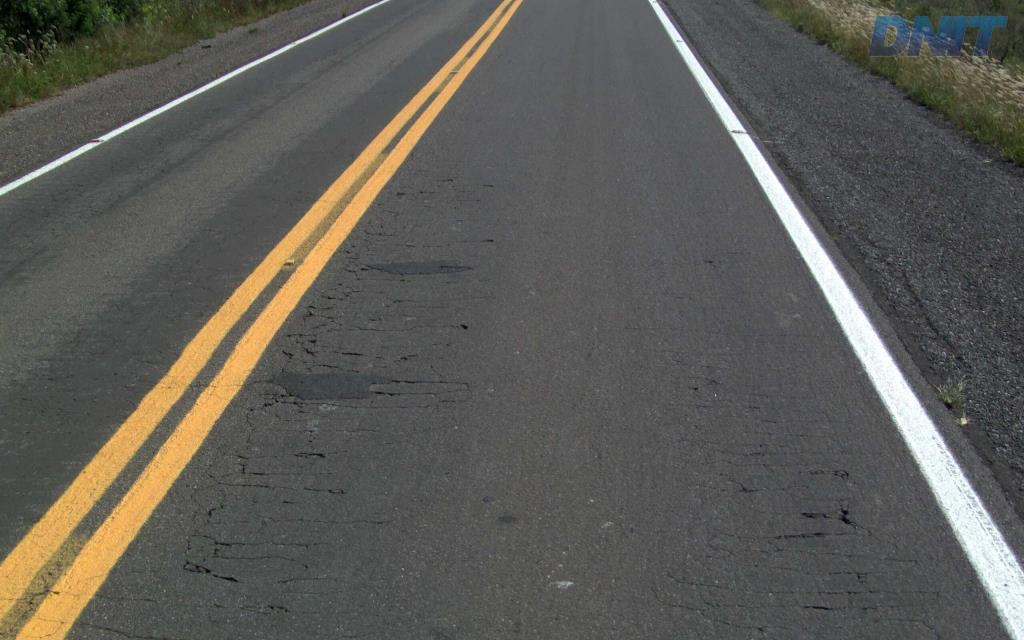crack: (188, 529, 271, 559), (182, 554, 244, 583), (258, 383, 310, 415)
